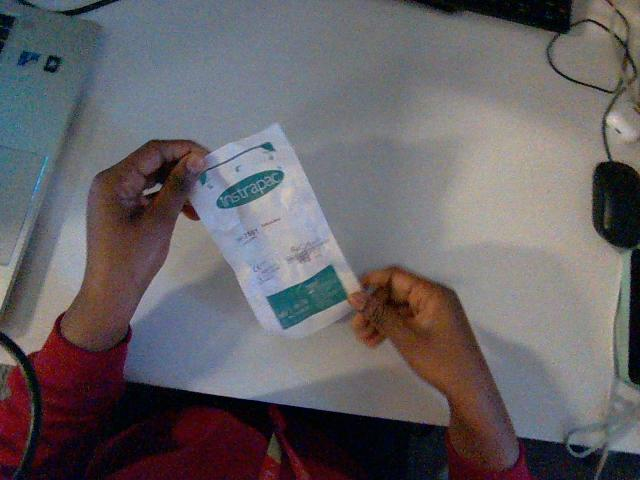gallipot: (190, 124, 359, 336)
